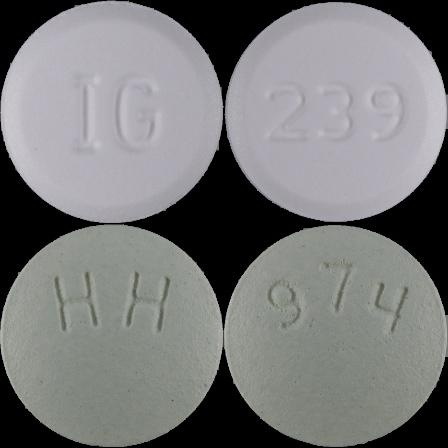69189-0239: (0, 0, 224, 224)
